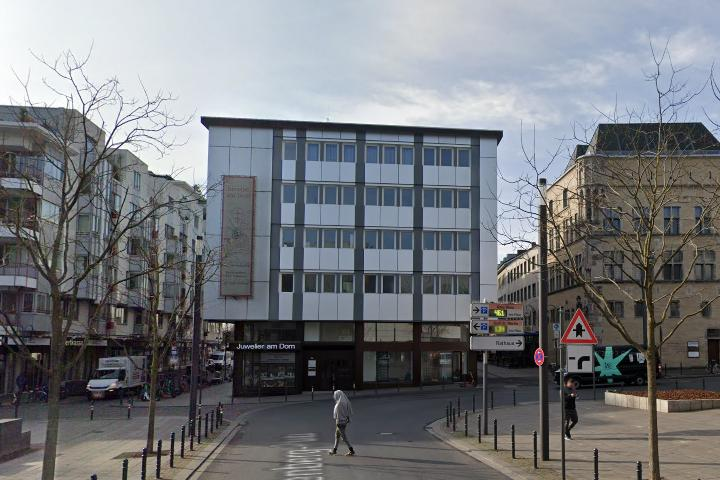traffic_sign: (557, 308, 600, 345), (566, 344, 594, 373), (534, 347, 545, 367)
vehicle: (84, 354, 148, 401)
